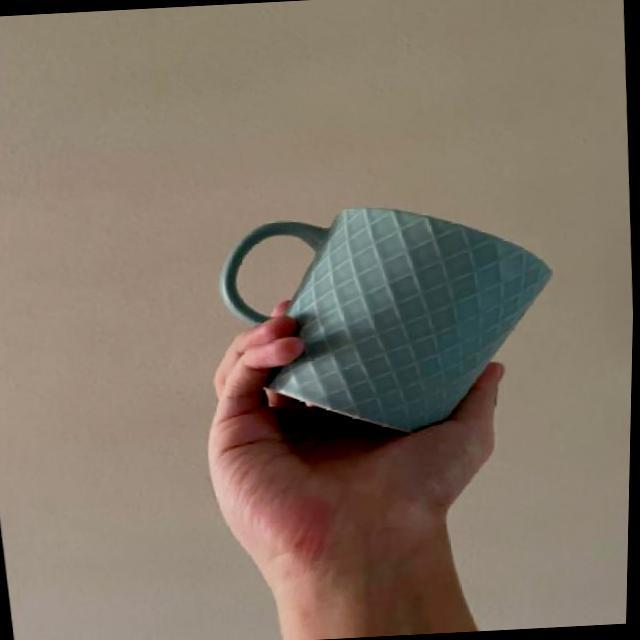cup: (317, 175, 564, 261)
